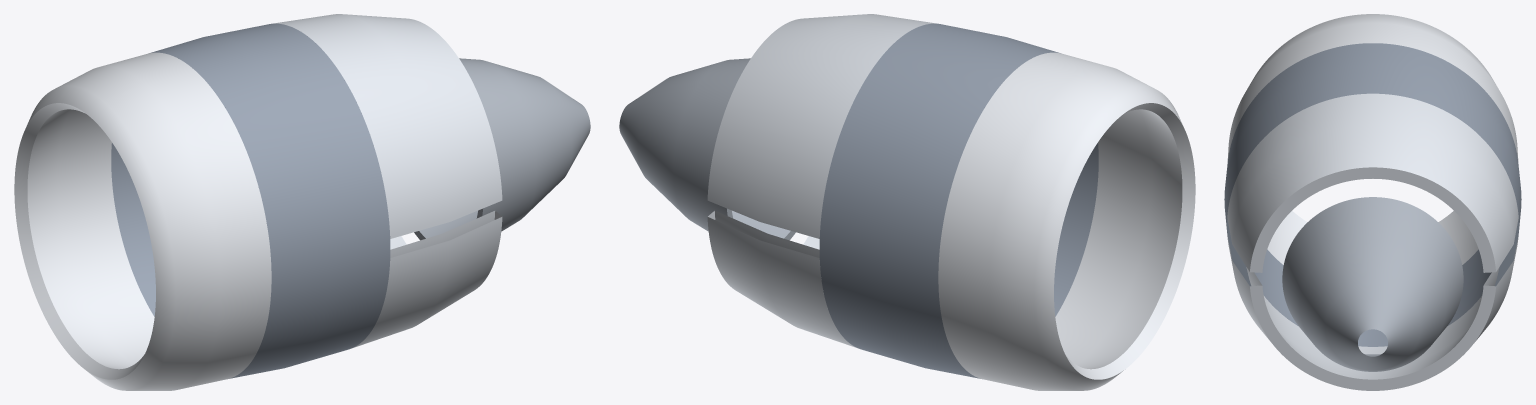
The model's file is L1_nacelle_casings.glb.
The picture shows the model from 3 angles, left to right: view 1: azimuth 30°, elevation 25°; view 2: azimuth 150°, elevation 25°; view 3: azimuth 270°, elevation 25°; orthographic projection. The views are drawn at different scales.
Parts seen in each view (by area): view 1: inlet_cowl_acoustic_lip, fan_containment_kevlar_case, thrust_reverser_c_duct_port, exhaust_chevron_nozzle_cone, thrust_reverser_c_duct_stbd; view 2: inlet_cowl_acoustic_lip, fan_containment_kevlar_case, thrust_reverser_c_duct_port, exhaust_chevron_nozzle_cone, thrust_reverser_c_duct_stbd; view 3: thrust_reverser_c_duct_port, exhaust_chevron_nozzle_cone, fan_containment_kevlar_case, inlet_cowl_acoustic_lip, thrust_reverser_c_duct_stbd.
Part boxes in pixels (x1,y1,x2,y2): inlet_cowl_acoustic_lip: [14, 52, 271, 390]; fan_containment_kevlar_case: [111, 23, 390, 378]; thrust_reverser_c_duct_port: [273, 14, 502, 238]; exhaust_chevron_nozzle_cone: [414, 58, 590, 240]; thrust_reverser_c_duct_stbd: [353, 210, 502, 347]; inlet_cowl_acoustic_lip: [938, 52, 1195, 390]; fan_containment_kevlar_case: [819, 23, 1098, 378]; thrust_reverser_c_duct_port: [707, 14, 936, 238]; exhaust_chevron_nozzle_cone: [619, 58, 795, 240]; thrust_reverser_c_duct_stbd: [707, 210, 856, 347]; thrust_reverser_c_duct_port: [1227, 93, 1518, 272]; exhaust_chevron_nozzle_cone: [1282, 197, 1463, 371]; fan_containment_kevlar_case: [1224, 43, 1521, 346]; inlet_cowl_acoustic_lip: [1227, 14, 1518, 264]; thrust_reverser_c_duct_stbd: [1227, 235, 1518, 390].
Size of the model in its own units: 3.97 by 2.36 by 2.36.
